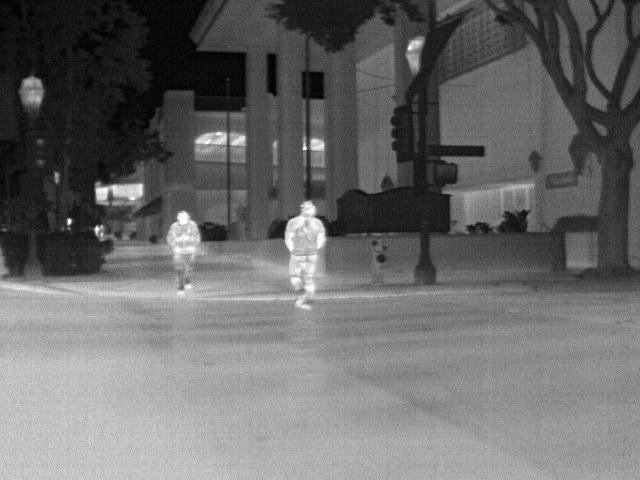person: (281, 198, 326, 312), (165, 206, 202, 296), (97, 222, 107, 240)
